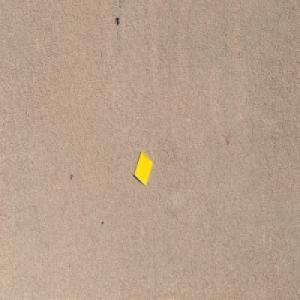PlasticPart: (133, 150, 153, 186)
